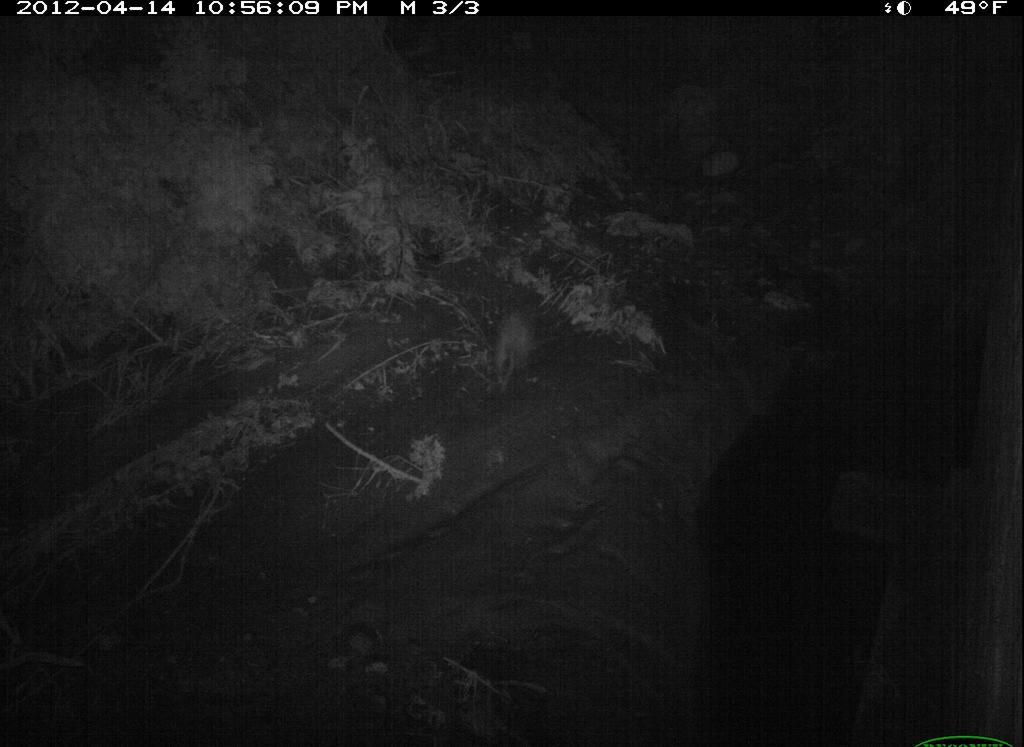opossum: (480, 296, 562, 406)
